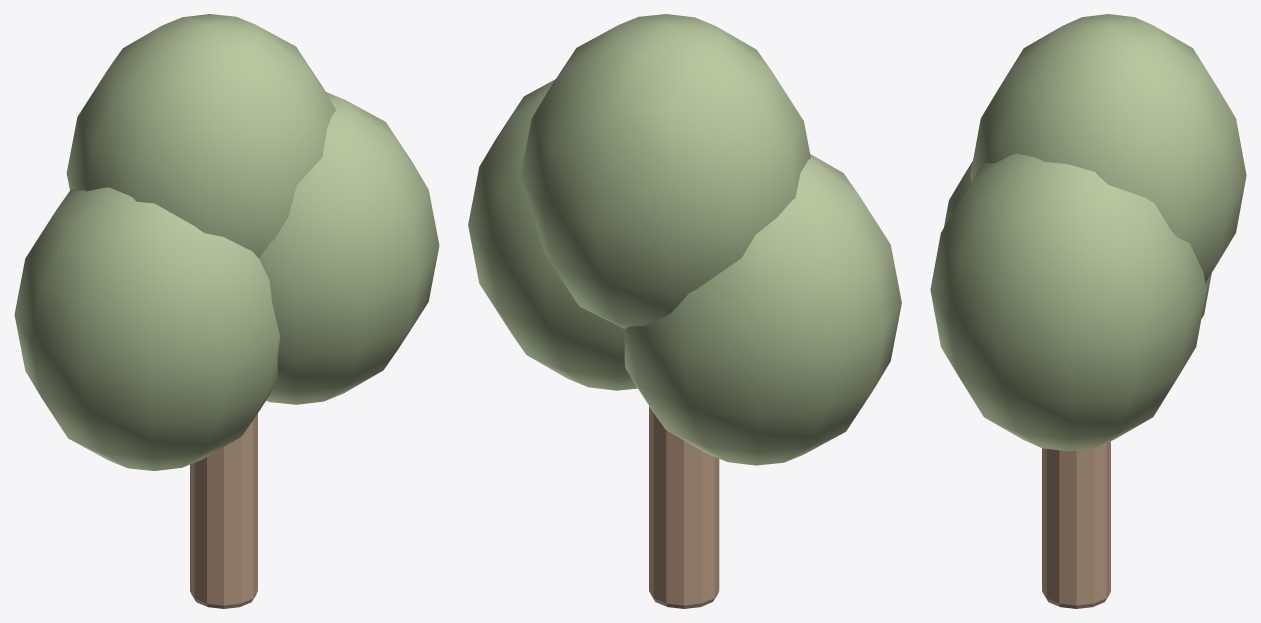
The model's file is oak.glb.
The picture shows the model from 3 angles, left to right: view 1: azimuth 30°, elevation 25°; view 2: azimuth 150°, elevation 25°; view 3: azimuth 270°, elevation 25°; orthographic projection. The views are drawn at different scales.
Parts seen in each view (by area): view 1: Sculpt__Copper leaves, Sculpt__Honey oak; view 2: Sculpt__Copper leaves, Sculpt__Honey oak; view 3: Sculpt__Copper leaves, Sculpt__Honey oak.
Boxes of the visible parts, box(x1,y1,x2,y2) form: Sculpt__Copper leaves: box(14, 14, 439, 470); Sculpt__Honey oak: box(190, 414, 257, 608); Sculpt__Copper leaves: box(468, 14, 901, 465); Sculpt__Honey oak: box(649, 406, 719, 608); Sculpt__Copper leaves: box(930, 14, 1246, 451); Sculpt__Honey oak: box(1042, 441, 1110, 608).
Bounding box in the file's own units: 1.71 × 2.37 × 1.19.
